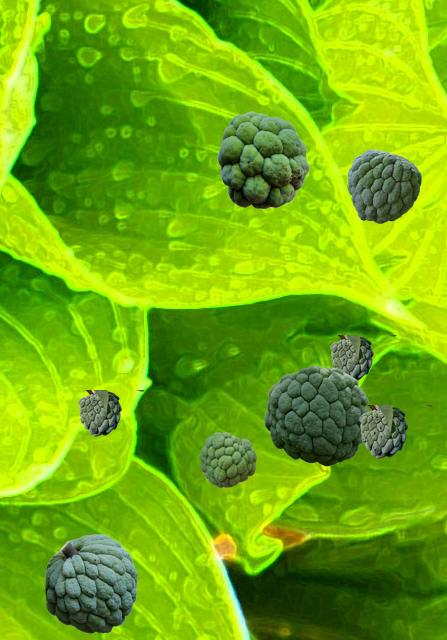atis: (264, 365, 369, 465), (45, 534, 136, 632), (217, 111, 308, 208), (347, 149, 420, 222), (359, 405, 432, 457), (199, 432, 255, 486), (330, 335, 395, 380), (78, 390, 143, 435)
